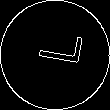L_W: (27, 35, 83, 74)
